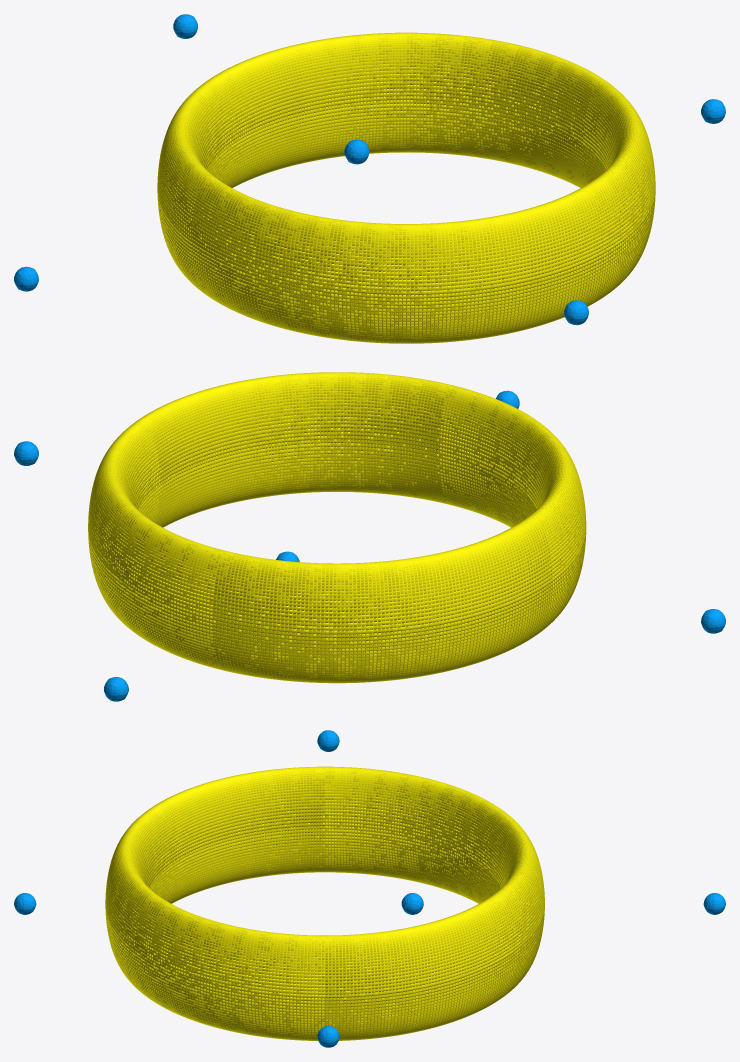
The model's file is surround_cyl_turquoise1.gltf.
The picture shows the model from 3 angles, top to bottom: view 1: azimuth 30°, elevation 25°; view 2: azimuth 150°, elevation 25°; view 3: azimuth 270°, elevation 25°; orthographic projection. The views are drawn at different scales.
Visible parts, largest first — view 1: Torus; view 2: Torus; view 3: Torus.
Boxes of the visible parts, x1,y1,x2,y2 form: Torus: (157, 32, 655, 343); Torus: (88, 372, 586, 683); Torus: (105, 766, 544, 1040).
Bounding box in the file's own units: 16.51 × 2.63 × 16.27.
